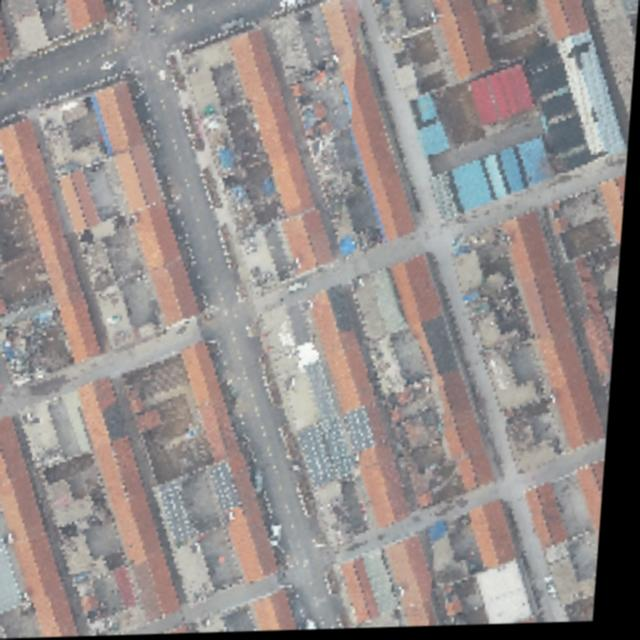Batiment: (0, 122, 104, 361), (316, 289, 416, 529), (395, 262, 498, 490), (187, 344, 285, 583), (506, 217, 606, 448), (321, 0, 416, 243), (89, 384, 186, 612), (0, 420, 86, 637), (230, 31, 313, 216), (138, 205, 201, 325), (430, 0, 491, 85), (393, 540, 445, 629), (92, 83, 145, 156), (471, 68, 534, 129), (284, 212, 337, 276), (115, 145, 163, 214), (477, 504, 524, 571), (138, 203, 182, 271), (533, 488, 573, 550), (61, 171, 100, 231), (349, 561, 386, 624), (584, 466, 612, 540), (542, 0, 589, 44), (602, 179, 629, 248), (261, 592, 305, 633), (64, 0, 106, 32), (0, 20, 12, 62), (620, 0, 639, 16)
